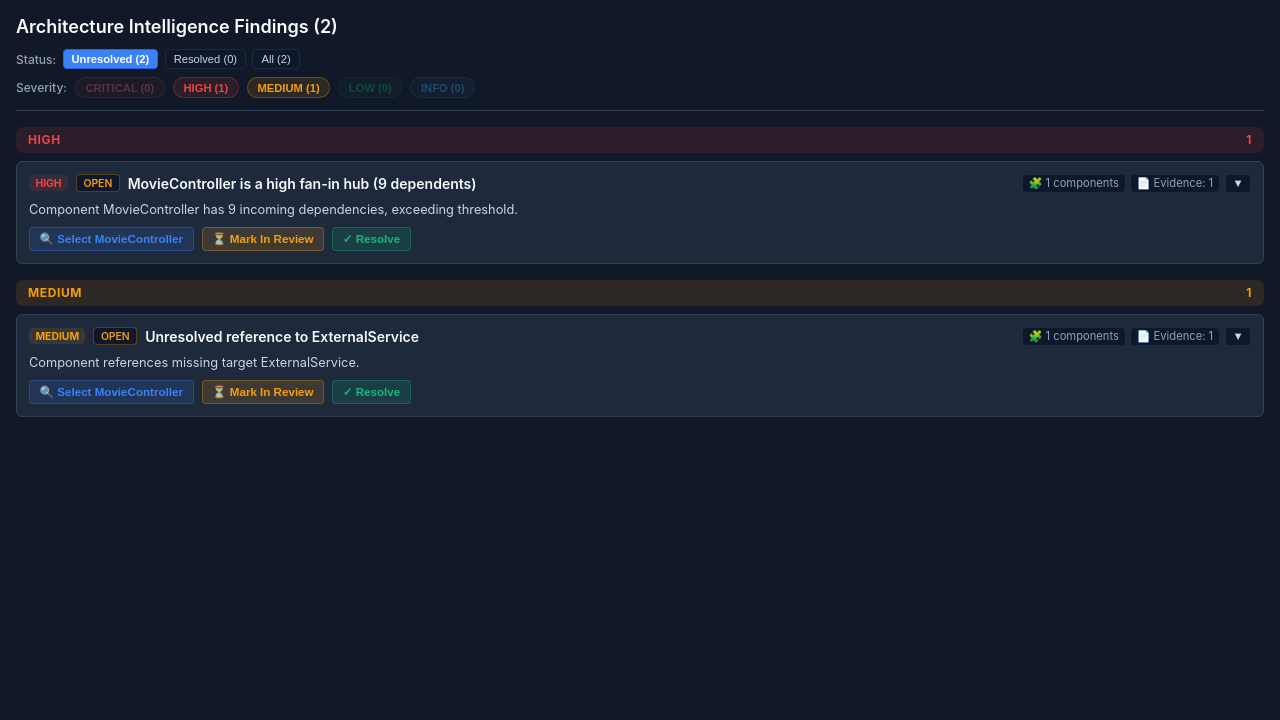
Scenario: FindingsPanel Component › expands evidence list when expand toggle button is clicked
This screenshot has width=1280, height=720.
Expected: the text "Open in editor" is not shown
Step 1. Click the 1st button titled "Expand Evidence" → coordinates (1238, 183), box [1225,174,1251,193]
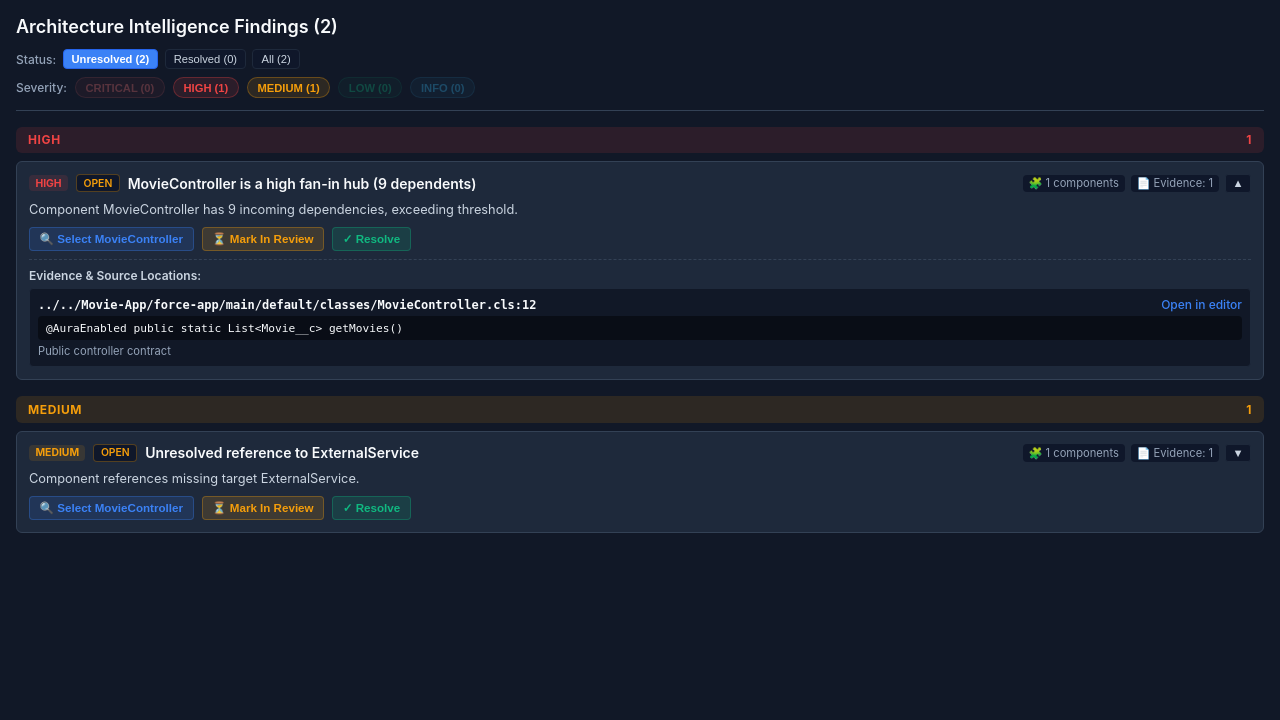
Expected: the link "Open in editor" is shown, [1161,297,1242,312]
Expected: the text "@AuraEnabled public static List<Movie__c> getMovies()" is shown, [38,316,1242,340]
